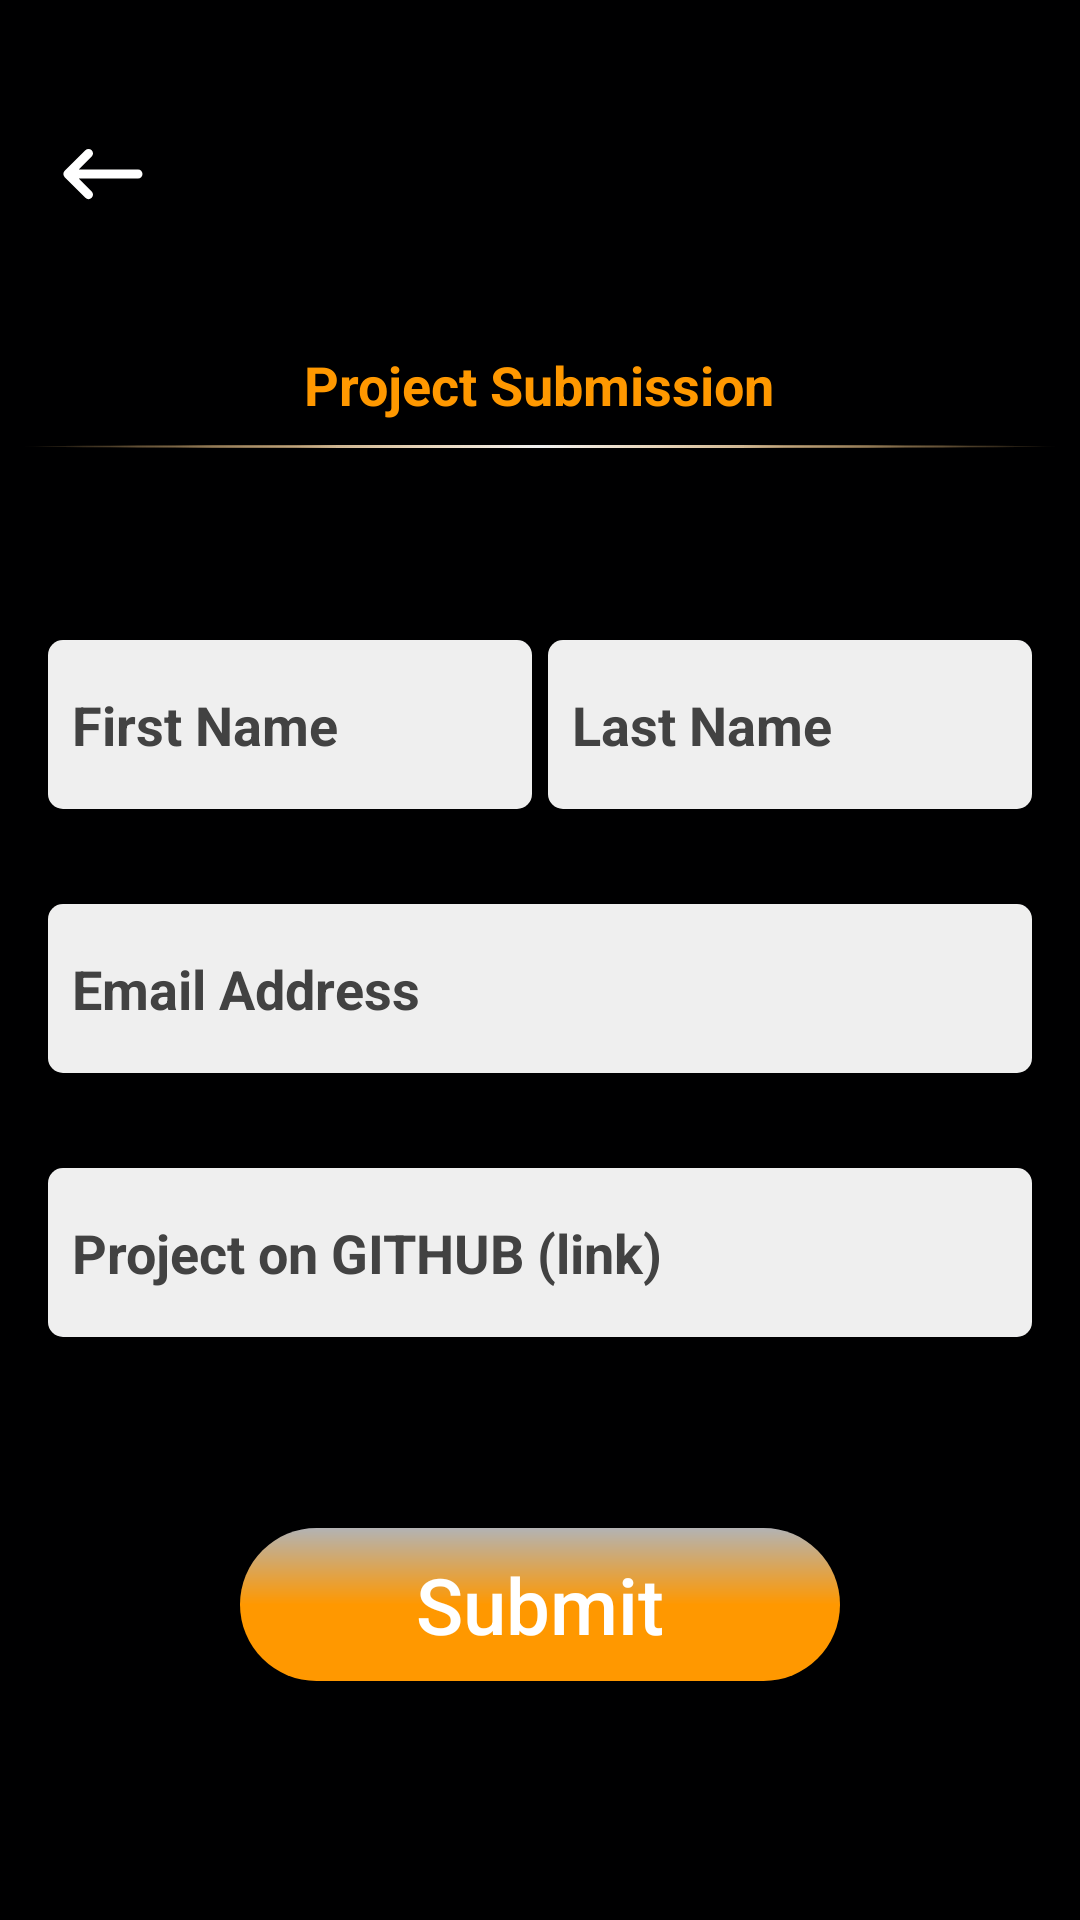

Point at icon controls on the screen. Image size 1080w x 1920h, points as (x,y).
back: (103,174)
